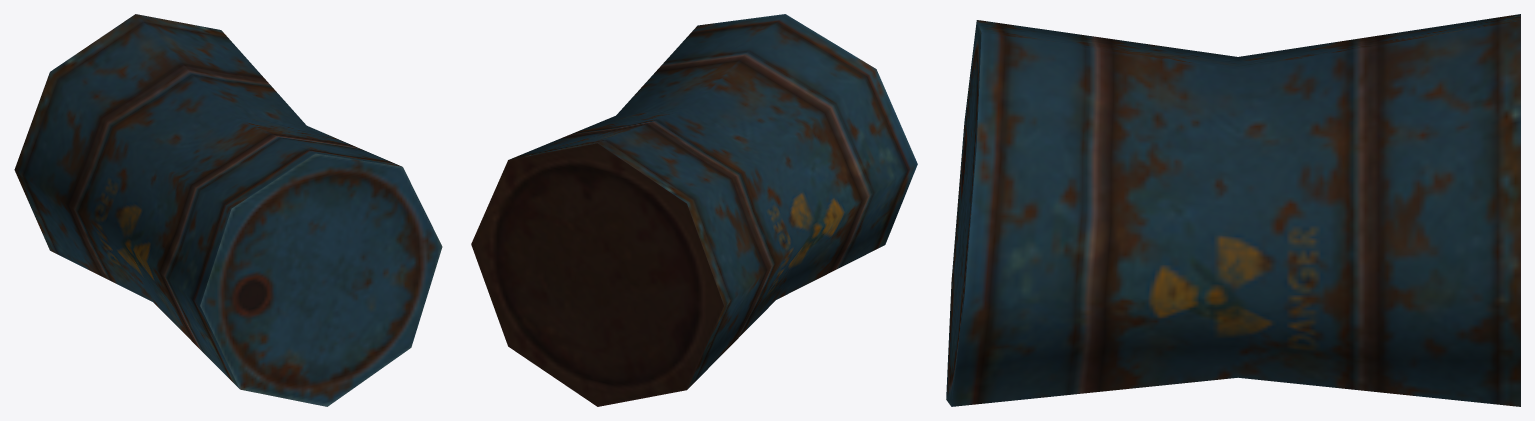
Rendered from Stage-gongchang-youtong3.FBX.
3 views of the same model, side by side, from view 1: azimuth 30°, elevation 25°; view 2: azimuth 150°, elevation 25°; view 3: azimuth 270°, elevation 25° (orthographic). The views are drawn at different scales.
Visible parts, largest first — view 1: Object62; view 2: Object62; view 3: Object62.
Boxes of the visible parts, box(x1,y1,x2,y2) form: Object62: box(14, 14, 442, 406); Object62: box(471, 14, 917, 406); Object62: box(946, 14, 1520, 406).
Bounding box in the file's own units: 1.87 × 2.56 × 1.86.
